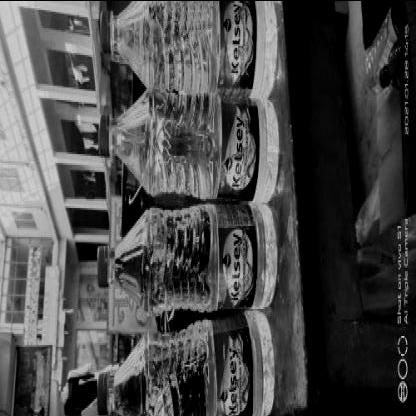bottle: (95, 87, 283, 203), (95, 201, 281, 313), (96, 309, 280, 416), (86, 0, 282, 85)
